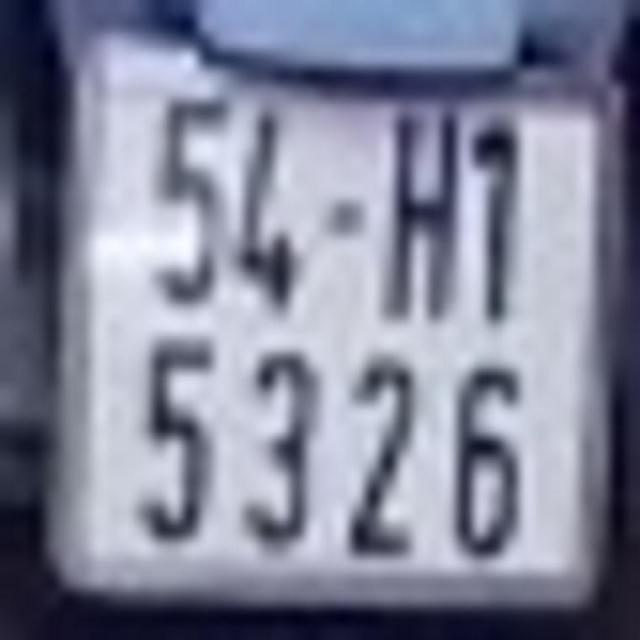1: (468, 103, 528, 324)
2: (340, 342, 421, 560)
3: (241, 336, 318, 554)
4: (235, 97, 312, 314)
5: (149, 89, 231, 312), (139, 327, 219, 547)
6: (452, 350, 527, 566)
H: (379, 102, 464, 324)
